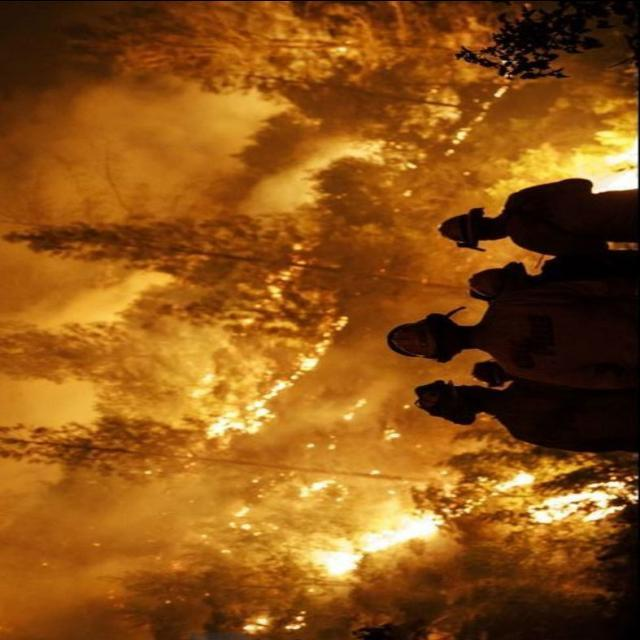Fire: (127, 56, 640, 593)
